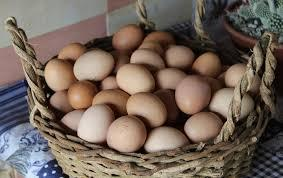egg: (104, 113, 146, 152), (77, 102, 114, 144), (175, 74, 212, 113), (127, 92, 168, 127), (73, 50, 115, 82), (116, 60, 154, 93), (144, 123, 186, 152), (185, 110, 224, 140), (43, 59, 76, 92), (112, 21, 142, 49), (163, 43, 194, 66), (196, 50, 220, 74)
